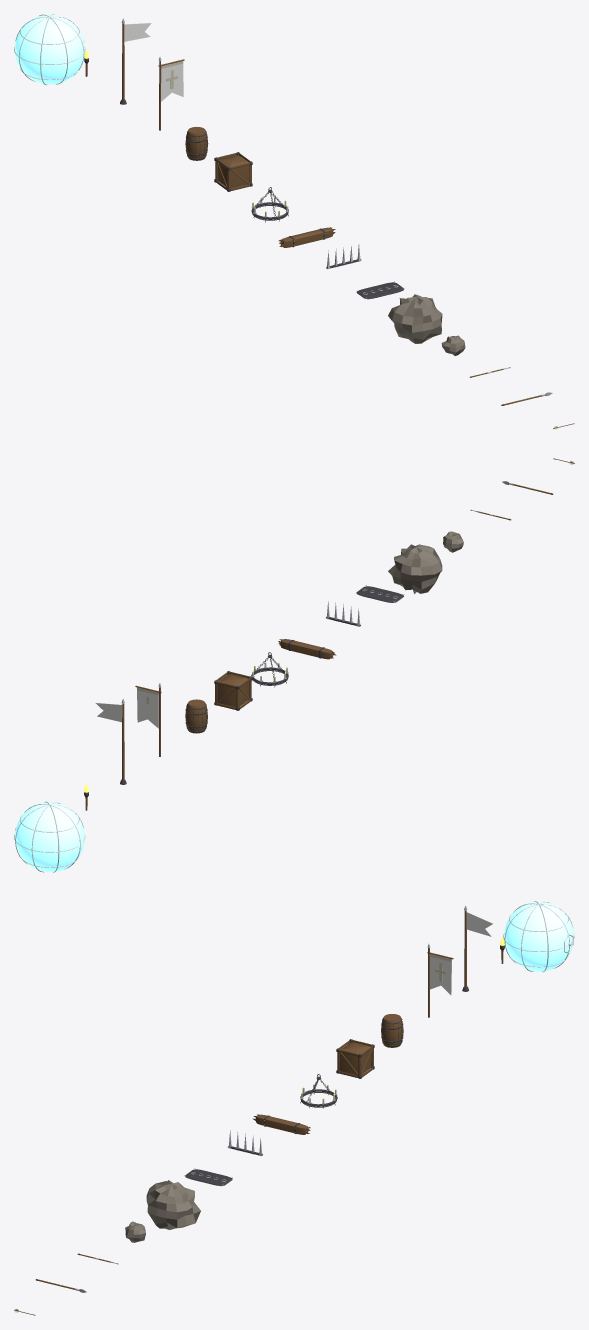
File: props.glb
3 renders of one model, top to bottom at view 1: azimuth 30°, elevation 25°; view 2: azimuth 150°, elevation 25°; view 3: azimuth 330°, elevation 25°, orthographic.
Parts seen in each view (by area): view 1: ShieldBubble_Mesh, Boulder_Mesh, Crate_Mesh, Banner_Mesh, Barrel_Mesh, LandingFlag_Mesh, FallingBeam_Mesh, Chandelier_Mesh; view 2: ShieldBubble_Mesh, Boulder_Mesh, Crate_Mesh, Banner_Mesh, Barrel_Mesh, LandingFlag_Mesh, FallingBeam_Mesh, Chandelier_Mesh; view 3: ShieldBubble_Mesh, Boulder_Mesh, Crate_Mesh, Banner_Mesh, Barrel_Mesh, LandingFlag_Mesh, FallingBeam_Mesh.
Boxes of the visible parts, x1=… form: ShieldBubble_Mesh: x1=14, y1=14, x2=85, y2=84; Boulder_Mesh: x1=388, y1=294, x2=442, y2=343; Crate_Mesh: x1=214, y1=152, x2=252, y2=191; Banner_Mesh: x1=158, y1=56, x2=184, y2=130; Barrel_Mesh: x1=185, y1=126, x2=208, y2=160; LandingFlag_Mesh: x1=120, y1=18, x2=151, y2=104; FallingBeam_Mesh: x1=278, y1=227, x2=335, y2=247; Chandelier_Mesh: x1=251, y1=187, x2=288, y2=222; ShieldBubble_Mesh: x1=14, y1=801, x2=85, y2=872; Boulder_Mesh: x1=388, y1=544, x2=442, y2=593; Crate_Mesh: x1=214, y1=671, x2=252, y2=710; Banner_Mesh: x1=135, y1=683, x2=161, y2=756; Barrel_Mesh: x1=185, y1=699, x2=207, y2=733; LandingFlag_Mesh: x1=95, y1=699, x2=126, y2=784; FallingBeam_Mesh: x1=278, y1=639, x2=336, y2=659; Chandelier_Mesh: x1=251, y1=652, x2=288, y2=687; ShieldBubble_Mesh: x1=503, y1=901, x2=574, y2=972; Boulder_Mesh: x1=146, y1=1180, x2=200, y2=1229; Crate_Mesh: x1=336, y1=1039, x2=374, y2=1078; Banner_Mesh: x1=427, y1=944, x2=453, y2=1017; Barrel_Mesh: x1=381, y1=1014, x2=403, y2=1047; LandingFlag_Mesh: x1=462, y1=905, x2=493, y2=991; FallingBeam_Mesh: x1=252, y1=1114, x2=310, y2=1134.
Size of the model in its own units: 2.49 by 4.42 by 36.28.
